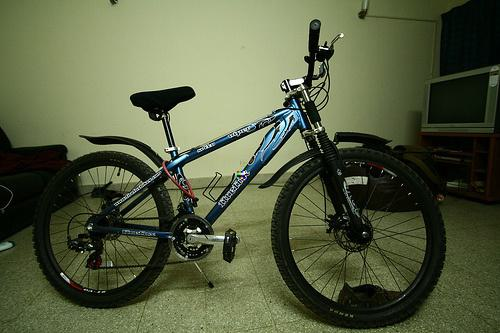car: (33, 20, 450, 330)
tvmonitor: (419, 64, 500, 135)
